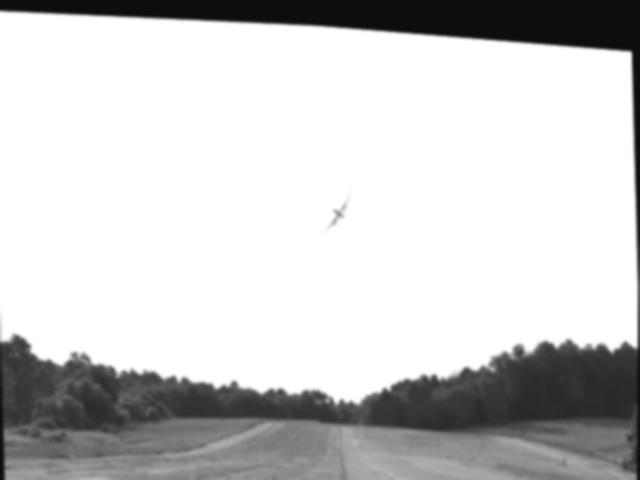hedef: (308, 173, 369, 240)
